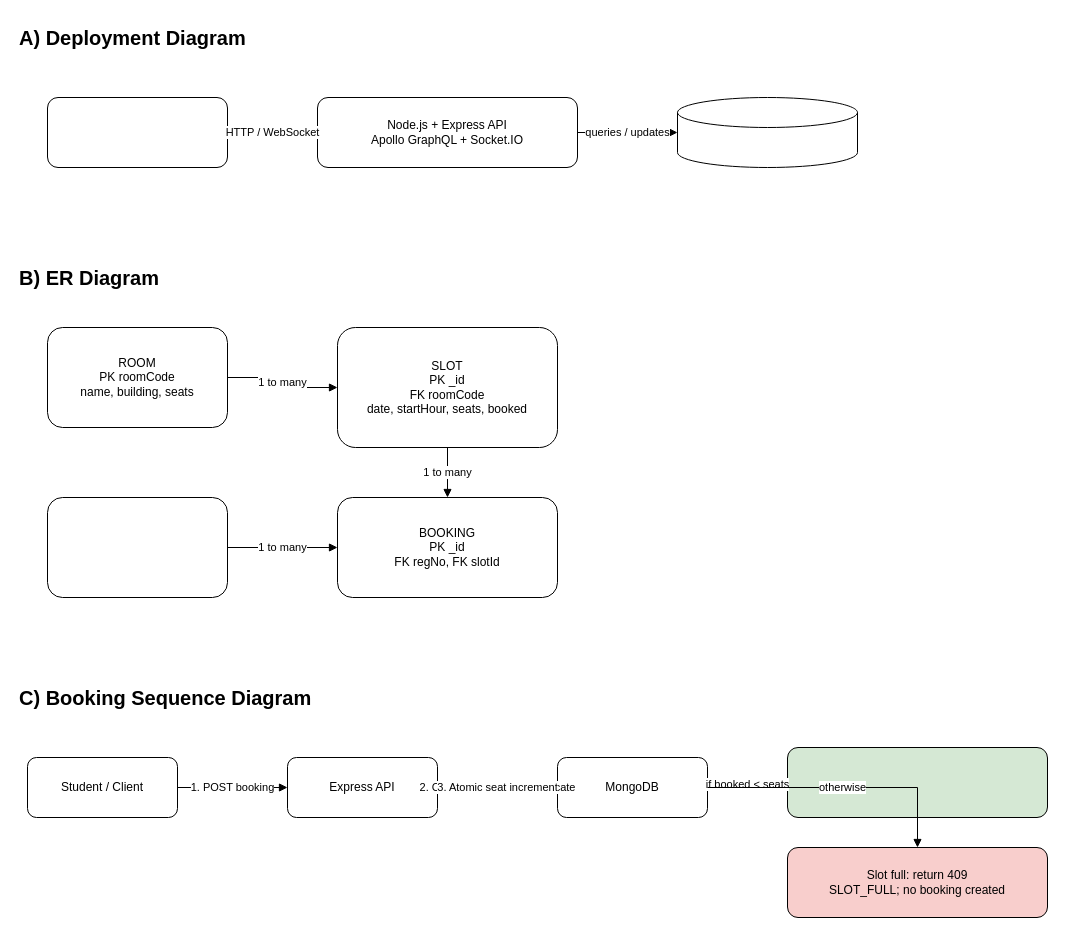
Some shapes in this 1065 by 935 pixel diagram are drawn without their labels. The box of each missing label's shape, as (x1, y1, x2, y2) in pixels:
Browser / Postman: (46, 96, 228, 168)
MongoDB (Mongoose): (676, 96, 858, 168)
Seat available: create booking return 201; emit slot:updated: (786, 746, 1048, 818)
STUDENT PK regNo name, email: (46, 496, 228, 598)
